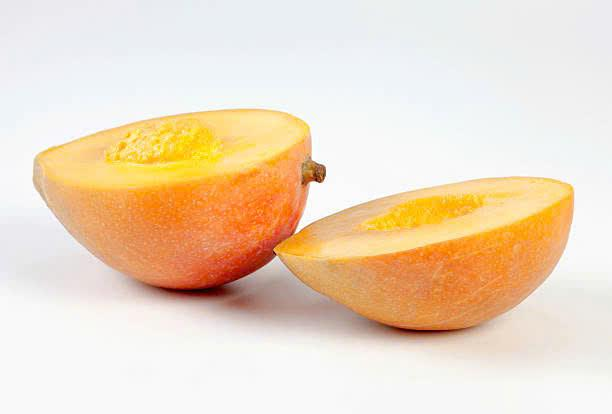mango: (24, 98, 312, 288), (271, 176, 585, 344)
